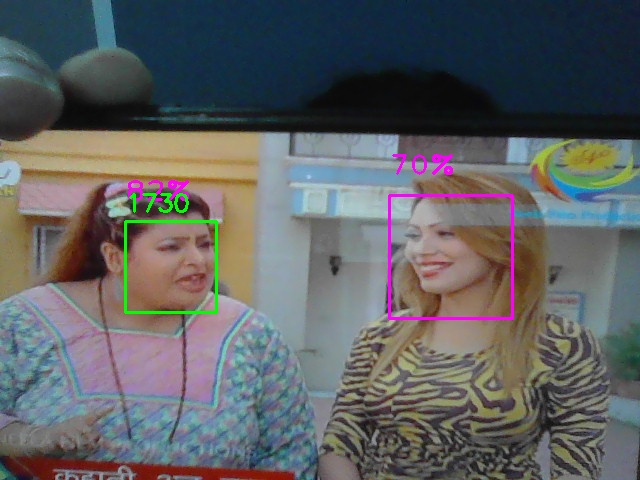fake: (125, 221, 217, 313)
